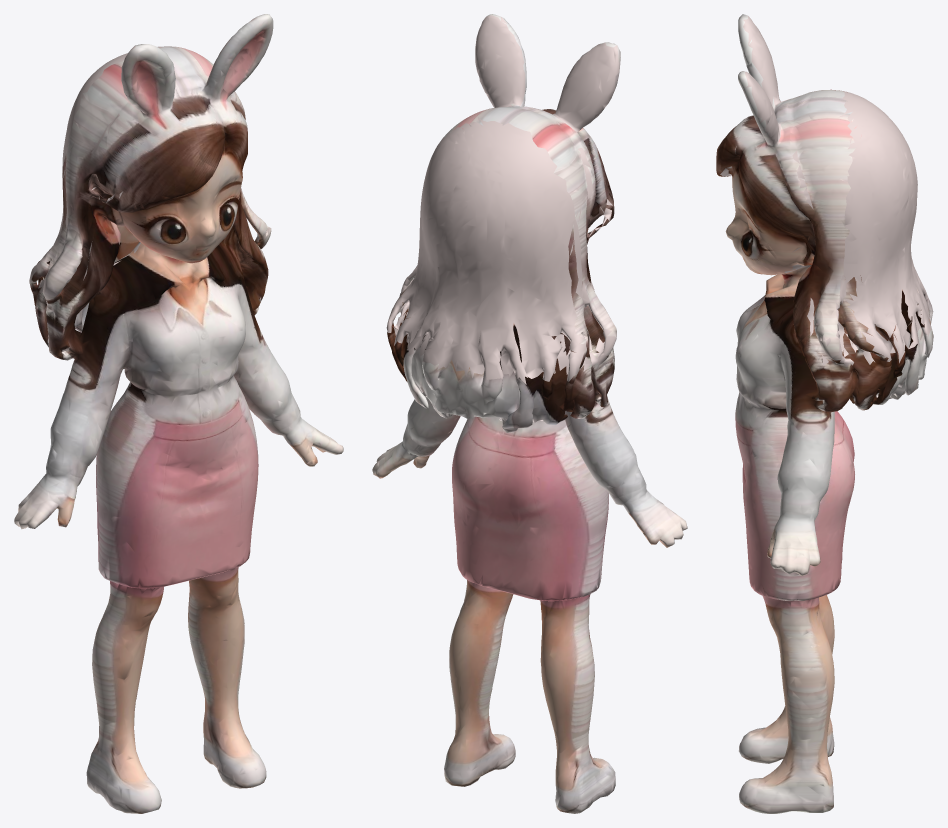
The model's file is rabbit.glb.
3 views of the same model, side by side, from view 1: azimuth 30°, elevation 25°; view 2: azimuth 150°, elevation 25°; view 3: azimuth 270°, elevation 25° (orthographic). The views are drawn at different scales.
Visible parts, largest first — view 1: geometry_0; view 2: geometry_0; view 3: geometry_0.
Boxes of the visible parts, x1,y1,x2,y2 form: geometry_0: (14, 14, 343, 813); geometry_0: (372, 14, 687, 813); geometry_0: (716, 14, 933, 813).
Bounding box in the file's own units: 0.8489 × 1.96 × 0.5238.
1 material, 1 textured.
